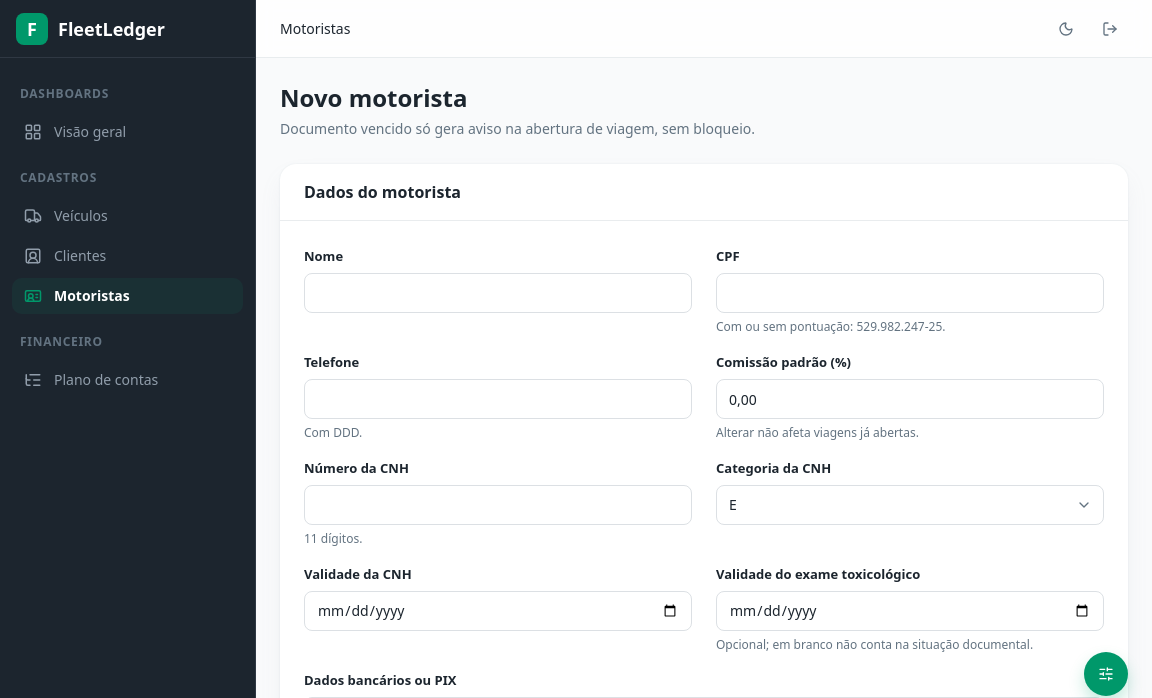
NewDriverPage › creates the driver and opens its detail
The width and height of the screenshot is (1152, 698).
Step 1. Type "João da Silva" into the field labelled "Nome" → (498, 293), box 304,273 -> 692,313
Step 2. Type "529.982.247-25" into the field labelled "CPF" → (910, 293), box 716,273 -> 1104,313
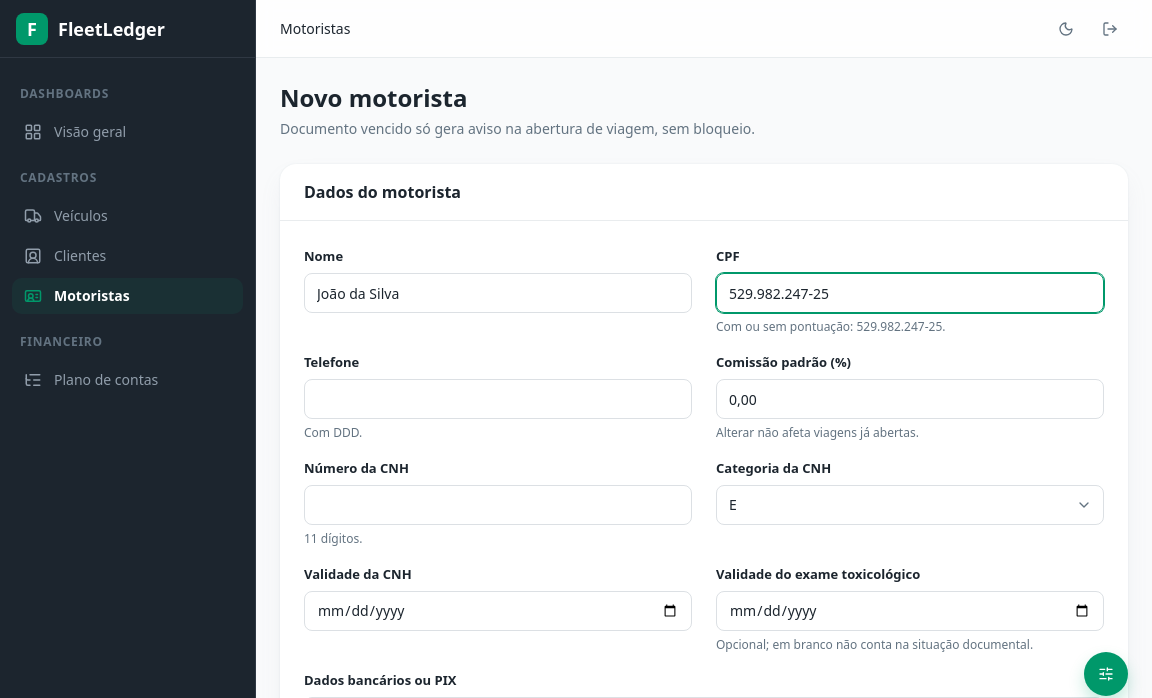
Step 3. Type "11987654321" into the field labelled "Telefone" → (498, 399), box 304,379 -> 692,419
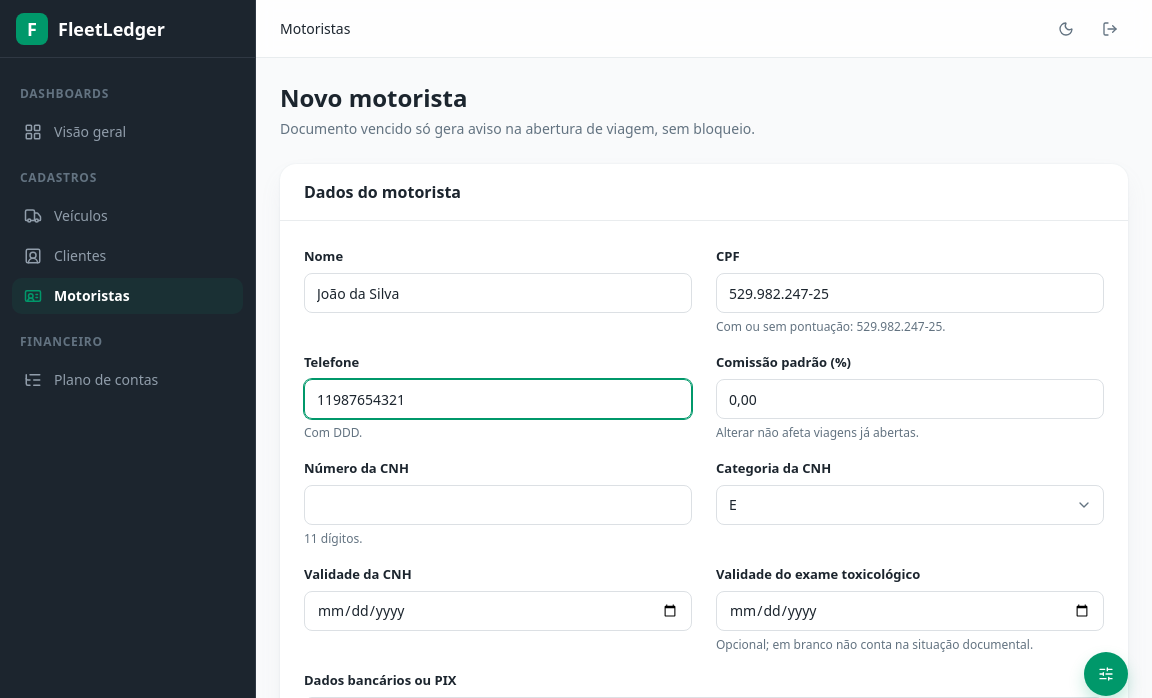
Step 4. Replace the text in the field labelled "Comissão padrão (%)" with "12,5" → (910, 399), box 716,379 -> 1104,419
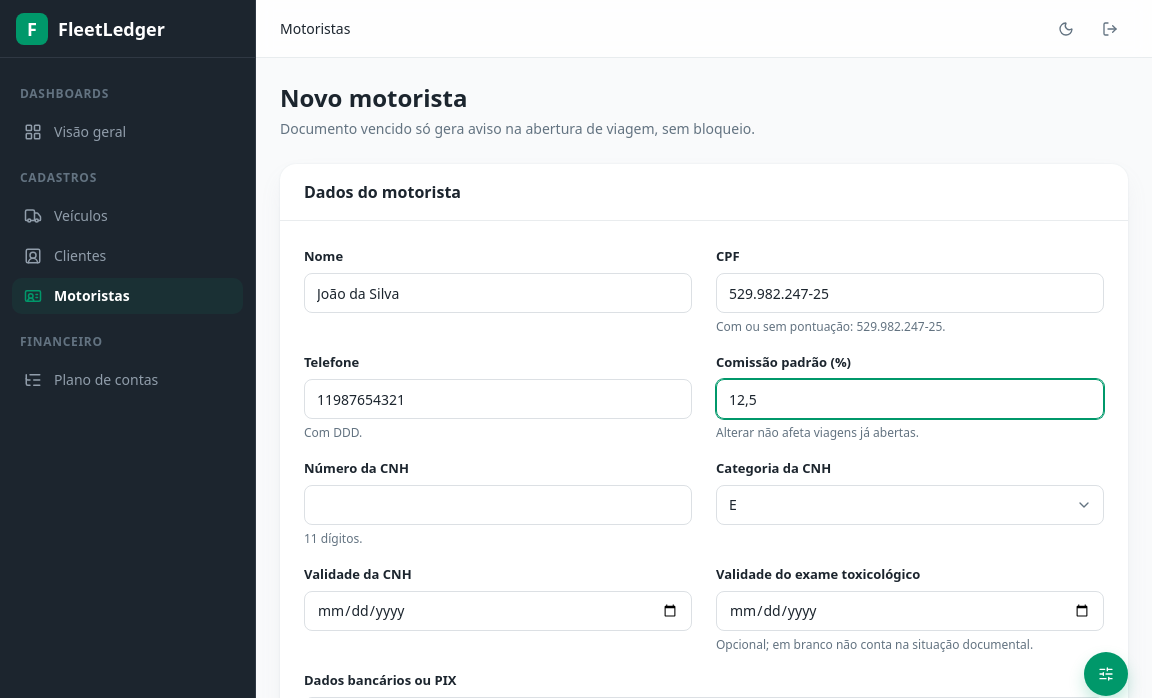
Step 5. Type "12345678901" into the field labelled "Número da CNH" → (498, 505), box 304,485 -> 692,525
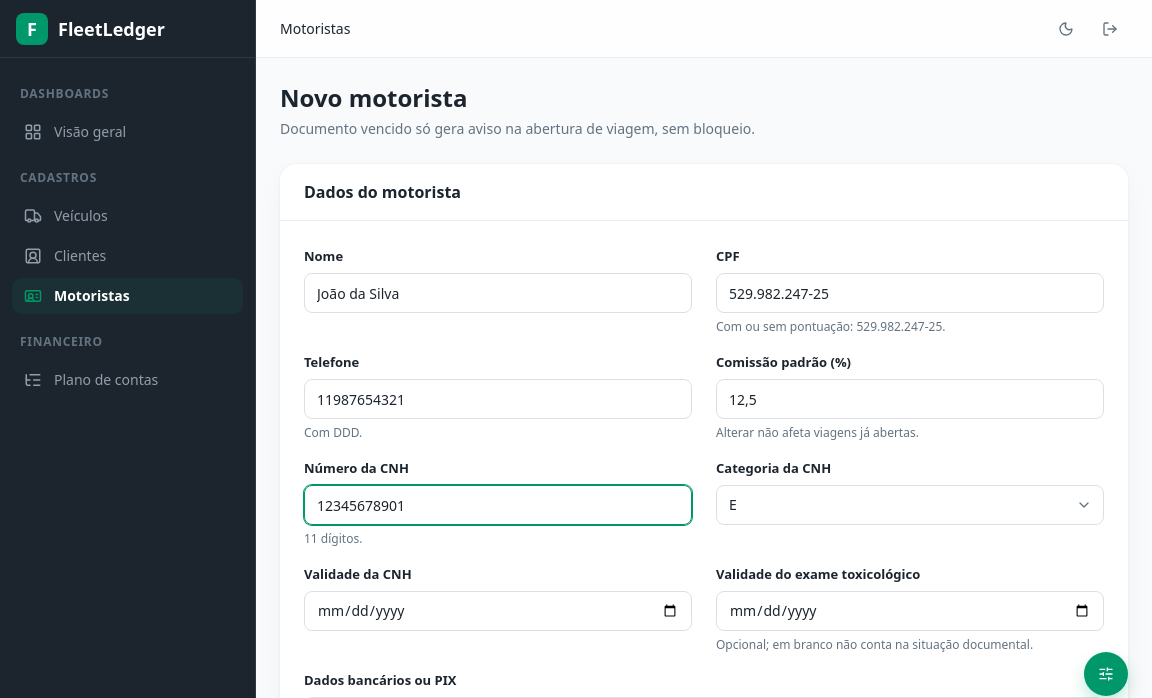
Step 6. Type "2028-05-10" into the date field labelled "Validade da CNH" → (498, 611), box 304,591 -> 692,631
(page scrolled)
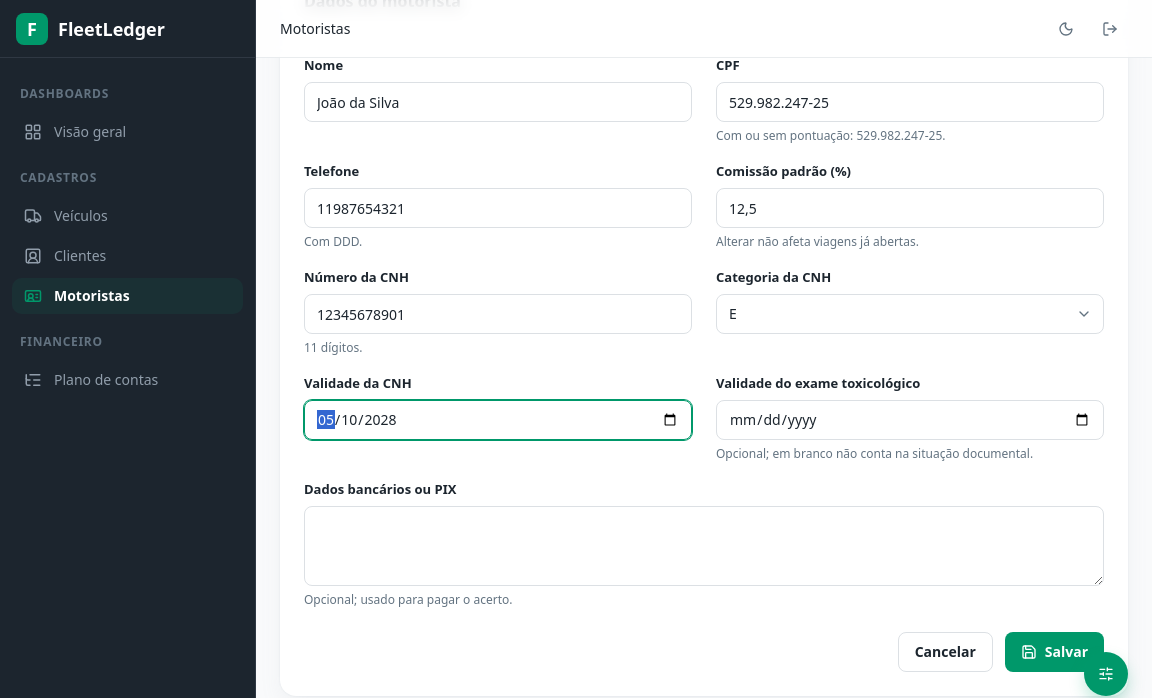
Step 7. Click the button "Salvar" → click(1054, 652), box 1005,632 -> 1104,672
(page scrolled)
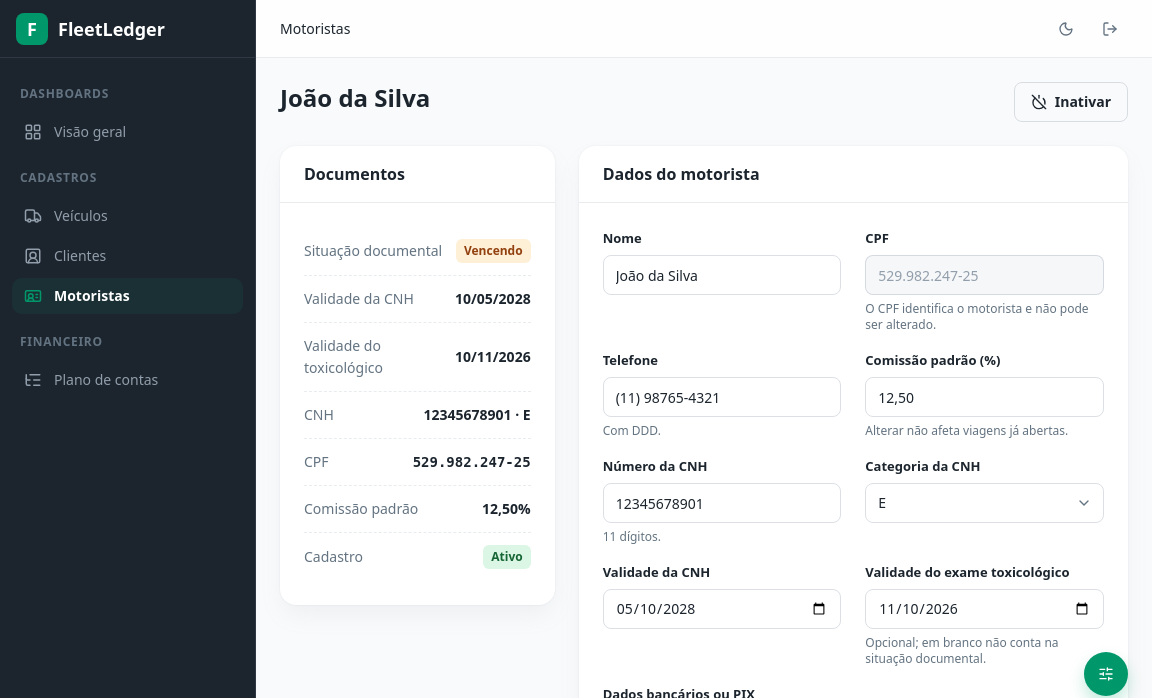
Check: the heading "João da Silva" is shown, box 280,82 -> 430,114
